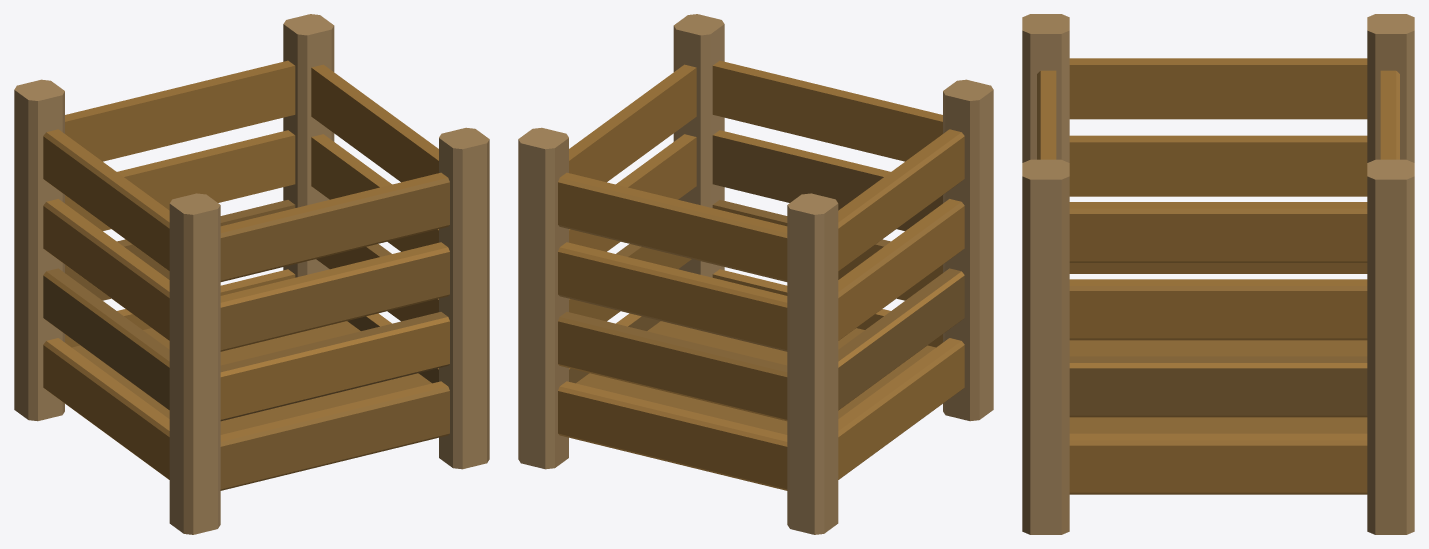
Rendered from wooden-crate-e46521.glb.
The picture shows the model from 3 angles, left to right: view 1: azimuth 30°, elevation 25°; view 2: azimuth 150°, elevation 25°; view 3: azimuth 270°, elevation 25°; orthographic projection. The views are drawn at different scales.
Visible parts, largest first — view 1: crate-body; view 2: crate-body; view 3: crate-body.
Boxes of the visible parts, <box> form: crate-body: <box>14,14,489,534</box>; crate-body: <box>518,14,993,534</box>; crate-body: <box>1022,14,1414,534</box>.
Bounding box in the file's own units: 0.6 × 0.6 × 0.6.
